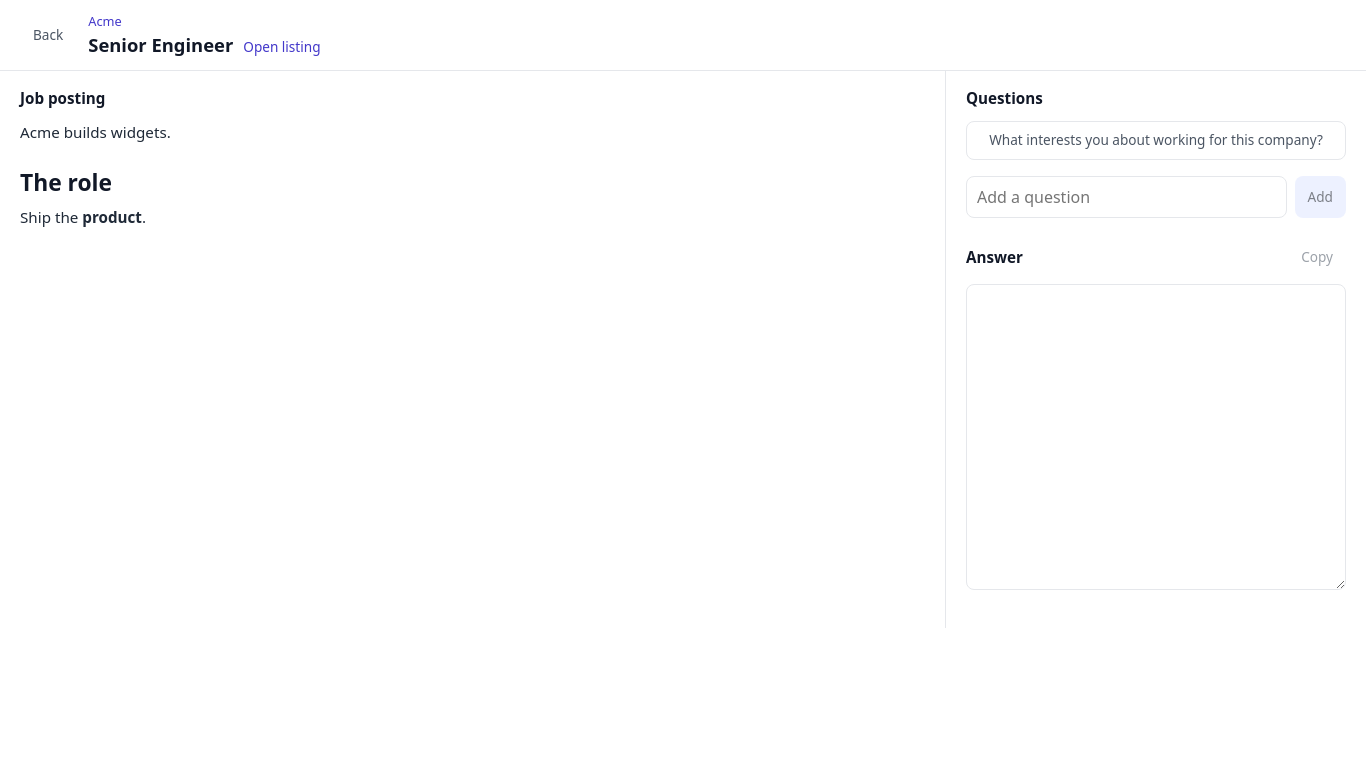
Test: shows the posting and generates an answer for a listed question
Expected: the heading "Senior Engineer" is shown, [88, 33, 233, 56]
Expected: the text "Acme builds widgets." is shown, [20, 122, 171, 142]
Click the button "What interests you about working for this company?" at (1156, 141), box [966, 121, 1346, 160]
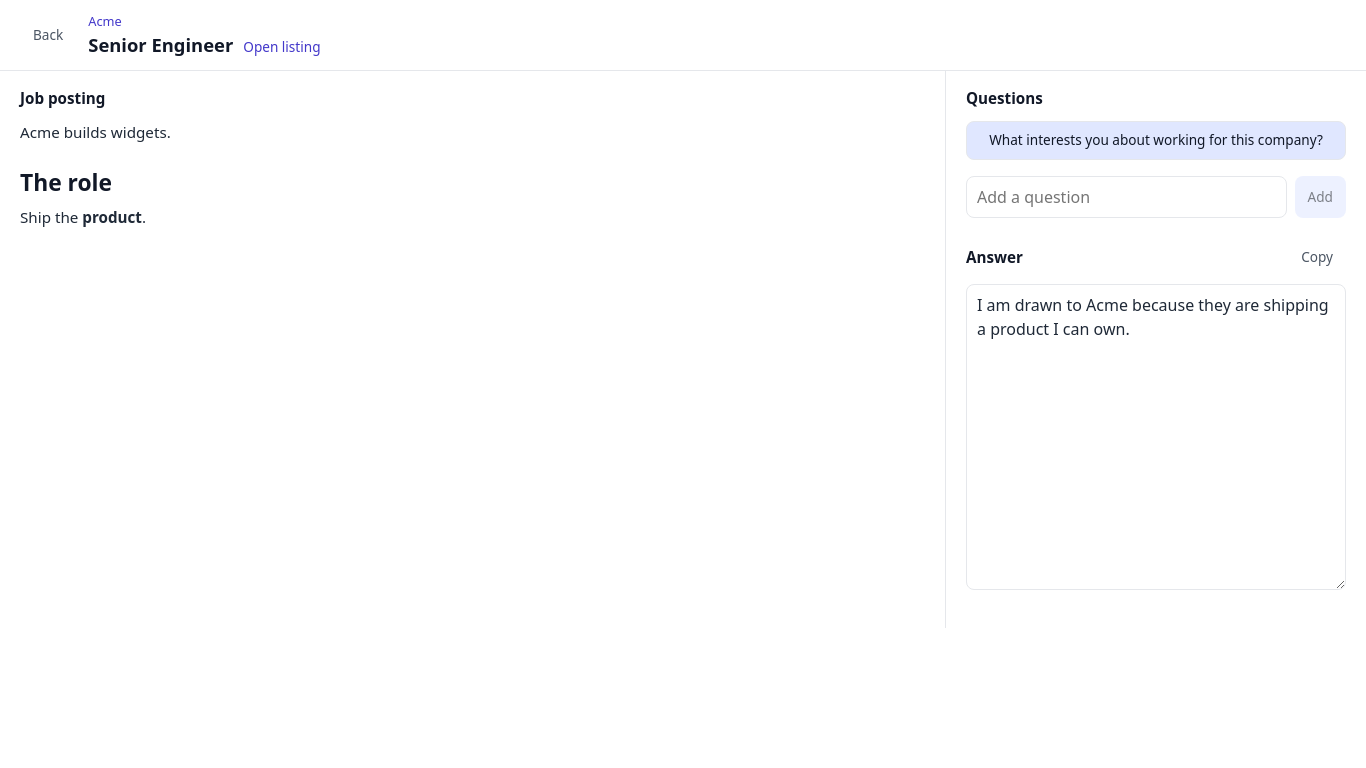
Expected: the text box named "Answer" holds "I am drawn to Acme because they are shipping a product I can own.", [966, 284, 1346, 590]
